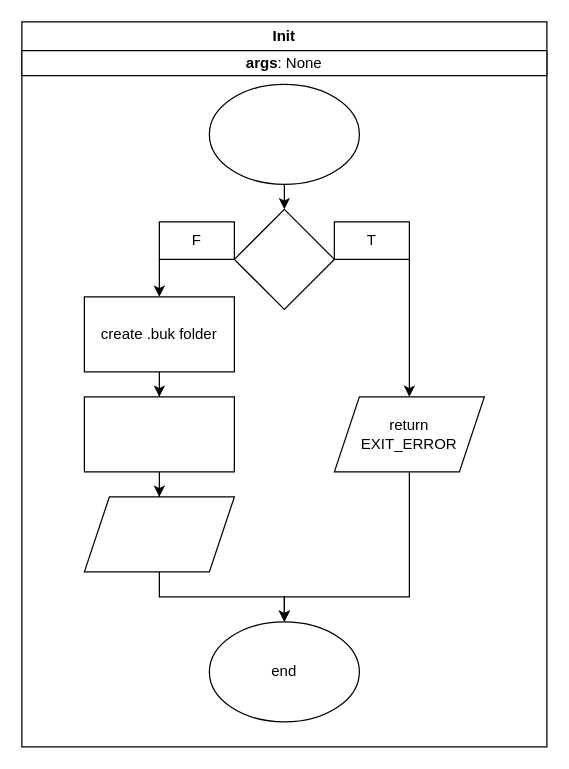
This 569x769 diagram has some shape labels left out. The centre of each missing label's shape, as x and y in pixels:
.buk exists: pixel 283 258
create config file: pixel 158 434
start: pixel 283 133
write default PATH: pixel 158 534
